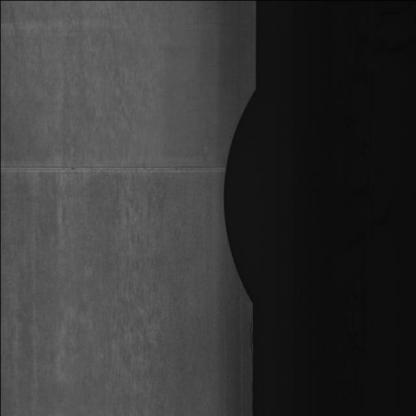crescent_gap: (217, 79, 276, 321)
welding_line: (4, 156, 233, 186)
